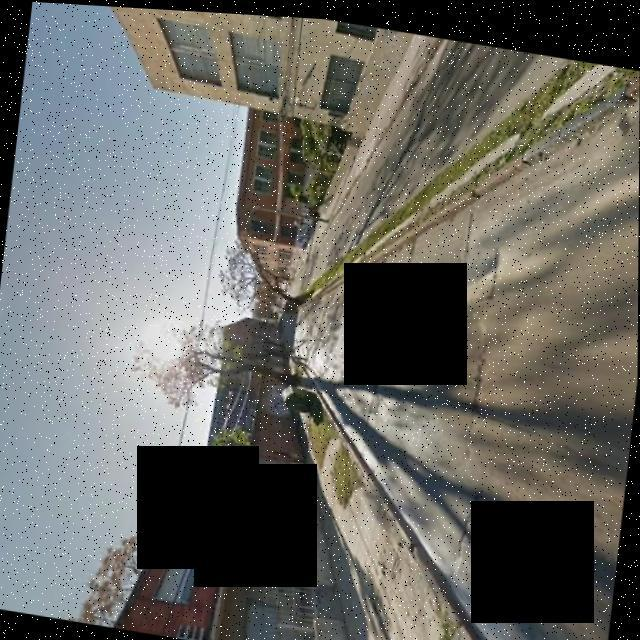bin: (275, 374, 323, 421)
